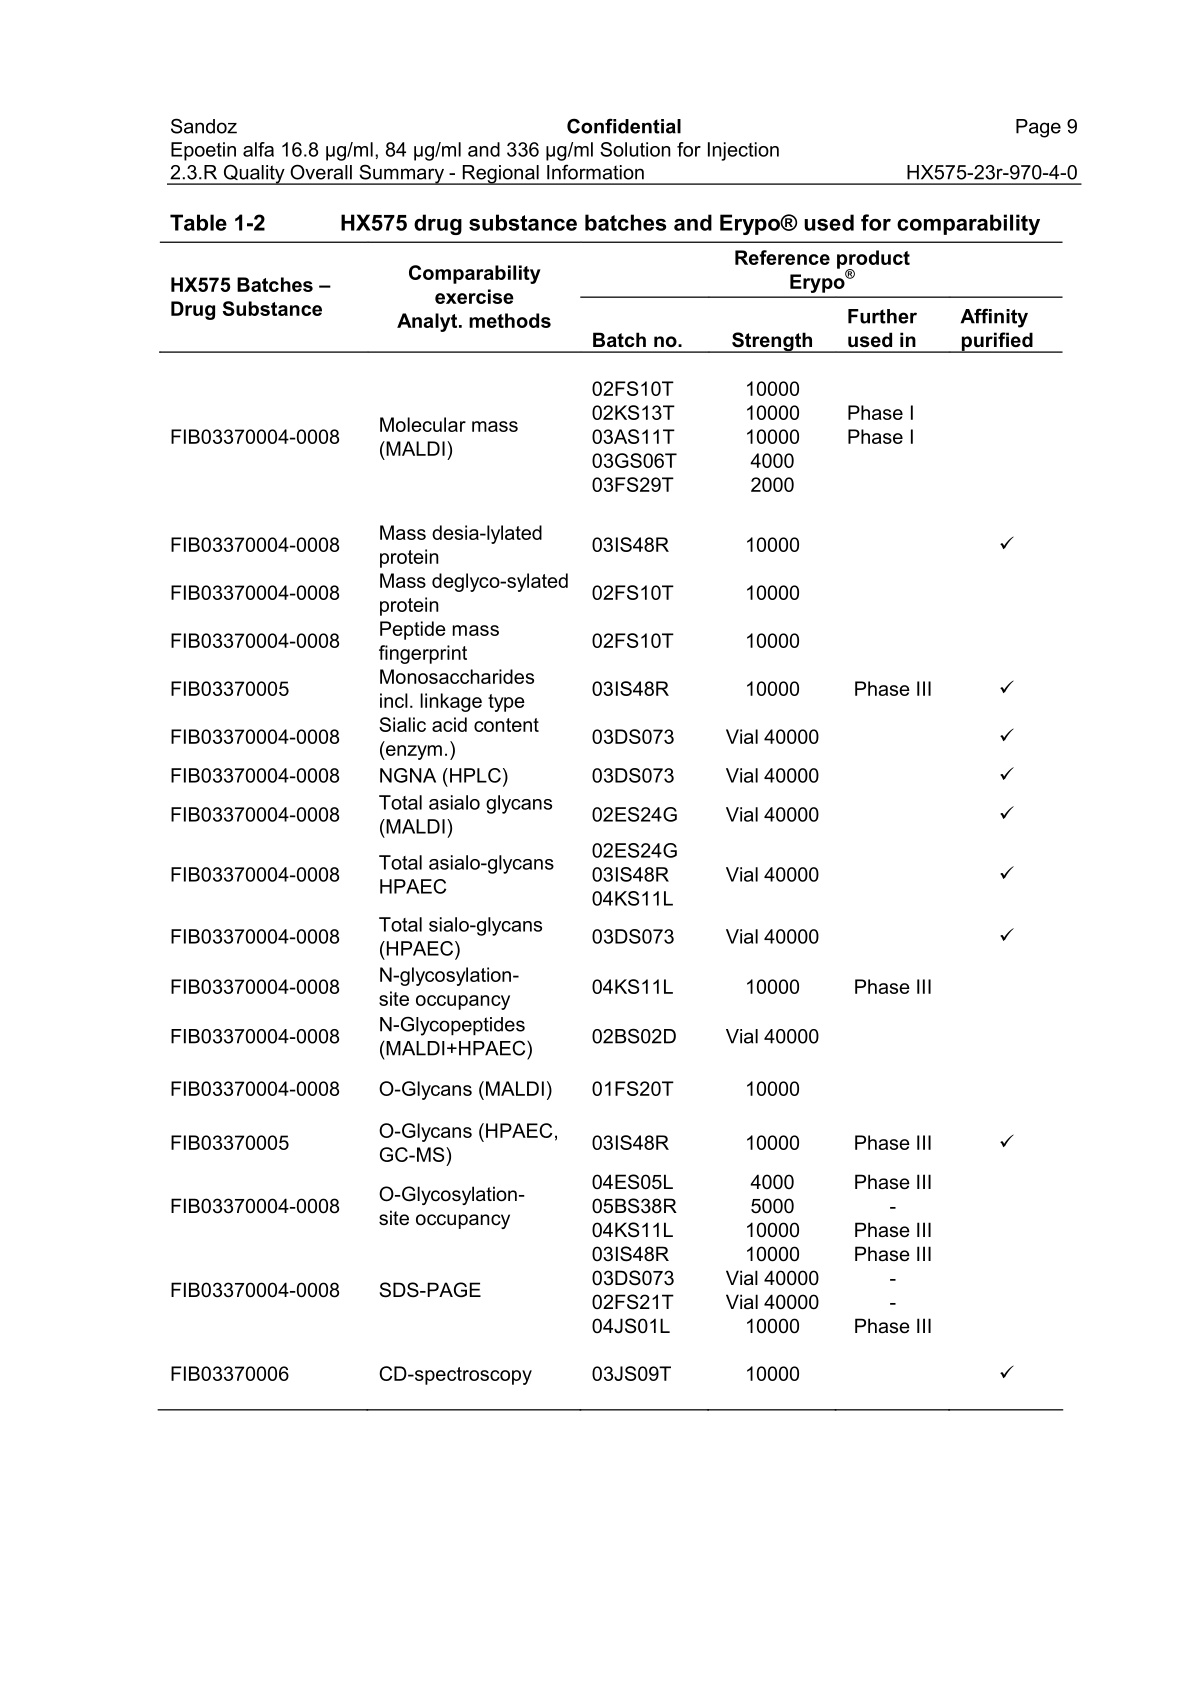partial_lined_merged_cells: (159, 241, 1063, 1412)
